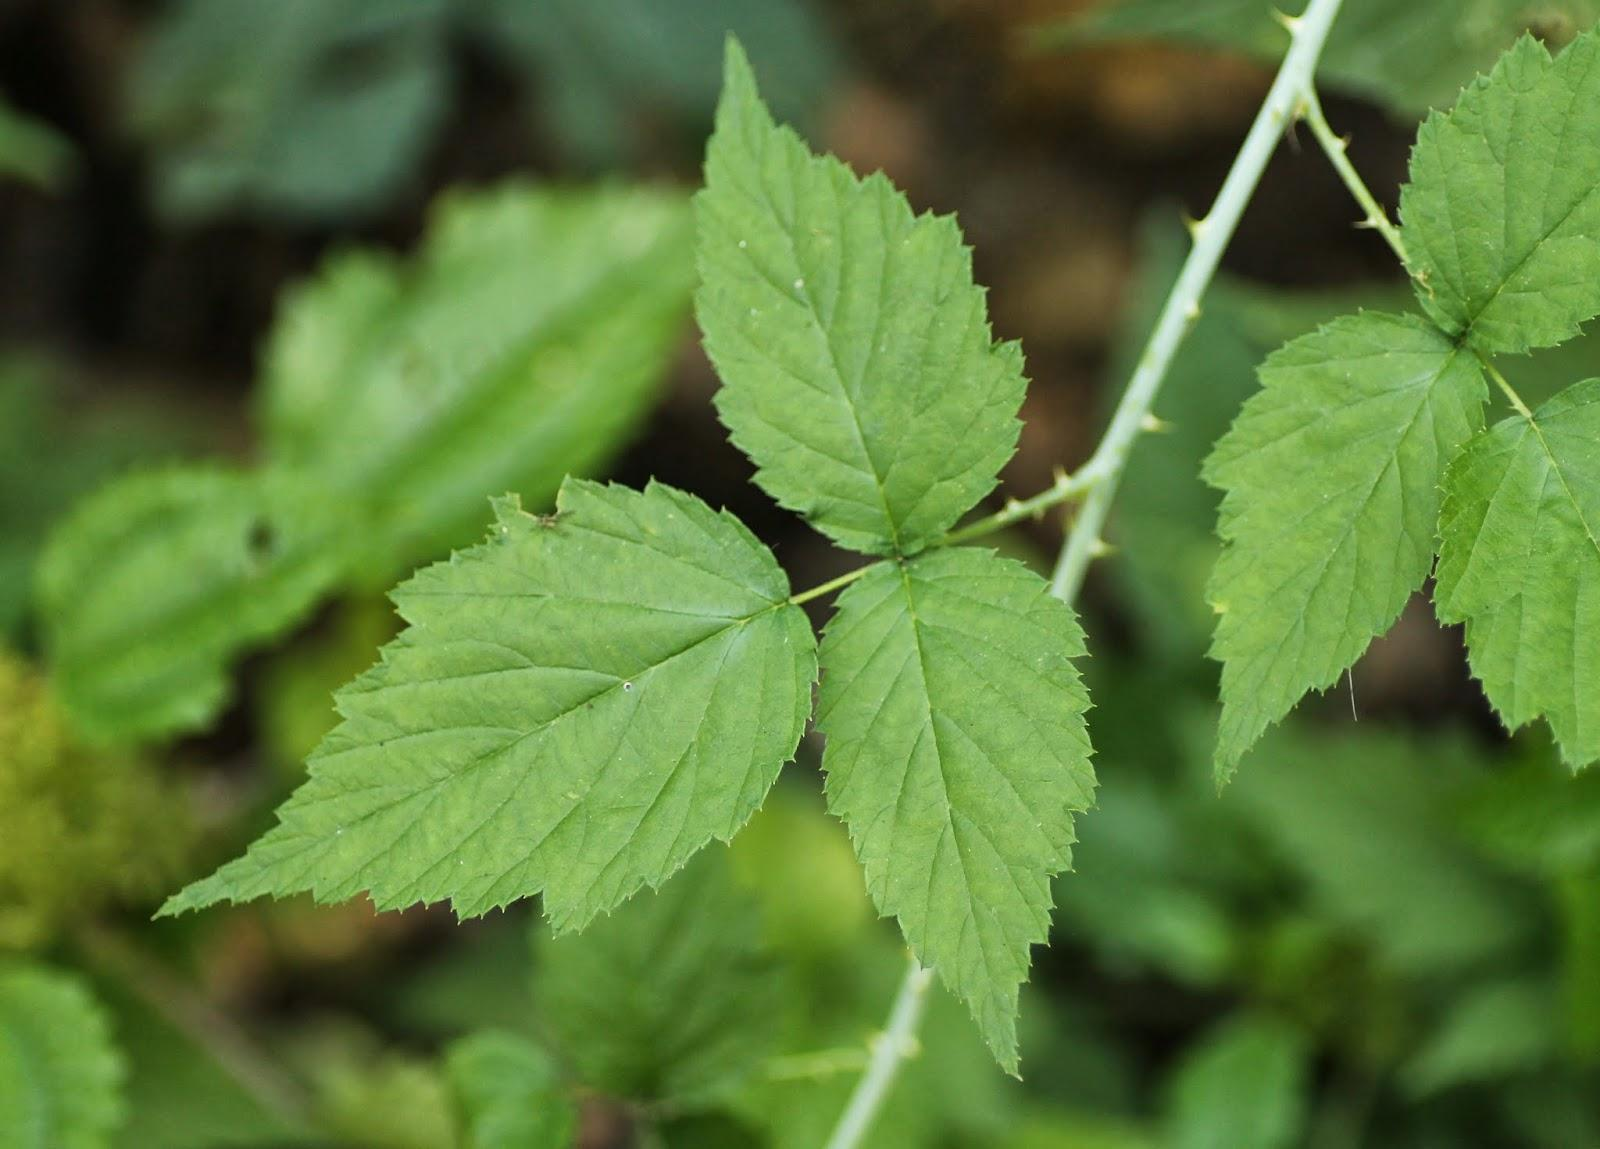Raspberry leaf: (142, 471, 816, 930), (680, 17, 1039, 555), (805, 543, 1116, 1103), (1202, 301, 1508, 785), (1434, 368, 1600, 785), (1391, 25, 1600, 357)
